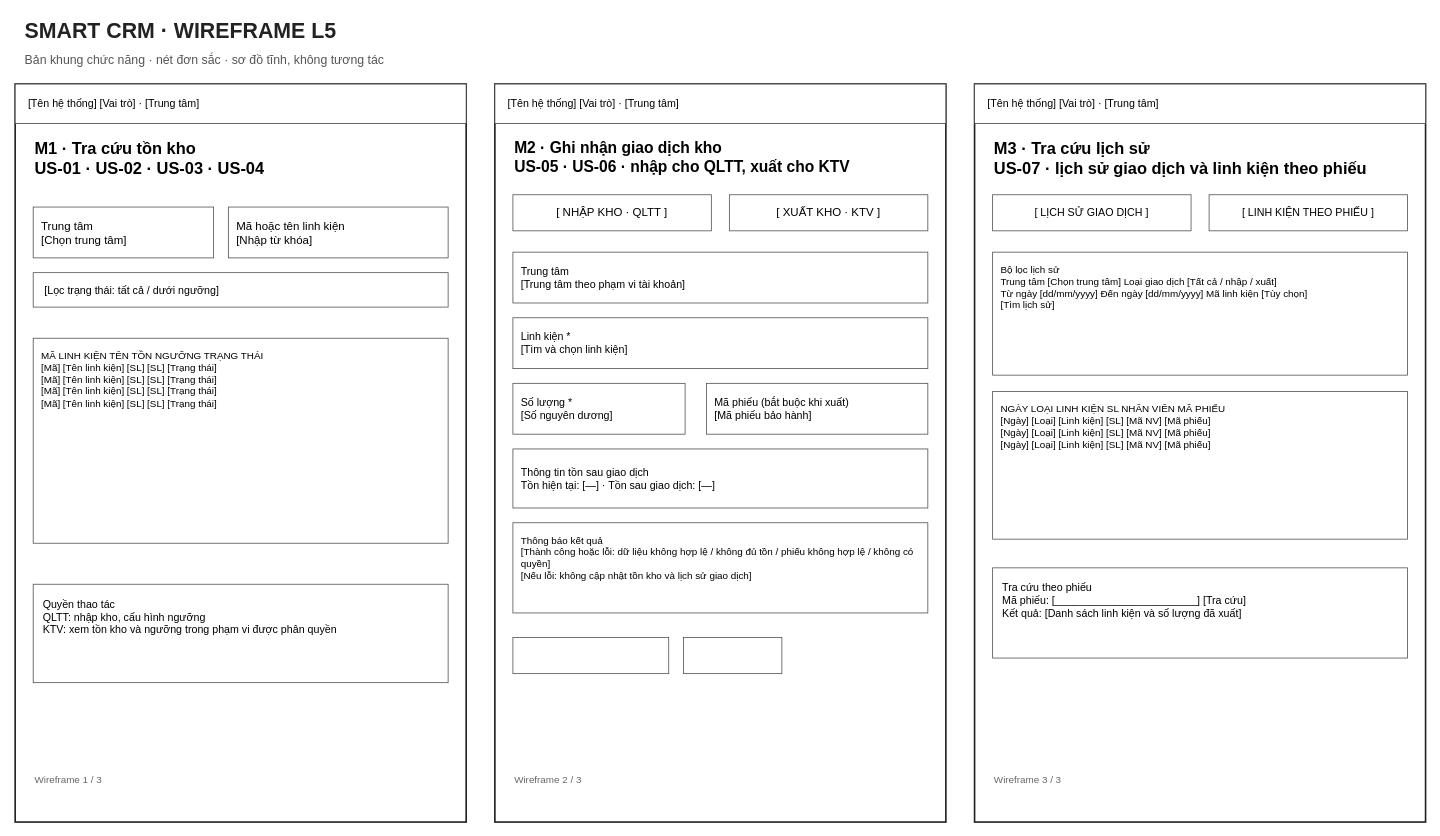
Image size: 1440x836. Some labels were removed from this diagram. Here are the shapes that lost their labels. From the top down, the centre of each, then its label:
At pixel 590 655: "[Ghi nhận giao dịch]".
At pixel 732 655: "[Làm mới]".
